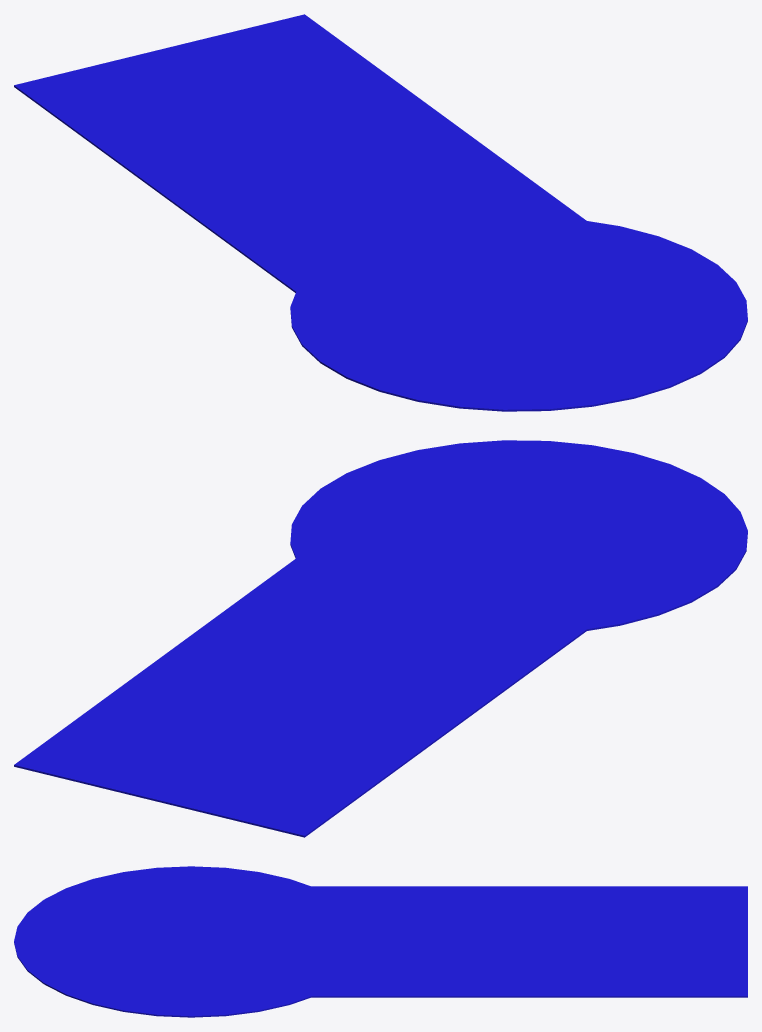
The model's file is End_Point.glb.
3 views of the same model, one above another, from view 1: azimuth 30°, elevation 25°; view 2: azimuth 150°, elevation 25°; view 3: azimuth 270°, elevation 25° (orthographic). The views are drawn at different scales.
Parts seen in each view (by area): view 1: Cube, Cylinder; view 2: Cube, Cylinder; view 3: Cube, Cylinder.
Part boxes in pixels (x1,y1,x2,y2): Cube: (14,14,663,348); Cylinder: (290,221,747,411); Cube: (14,501,664,837); Cylinder: (290,440,747,630); Cube: (191,886,747,997); Cylinder: (14,866,311,1017).
Size of the model in its own units: 0.6373 by 0.00275 by 1.32.
